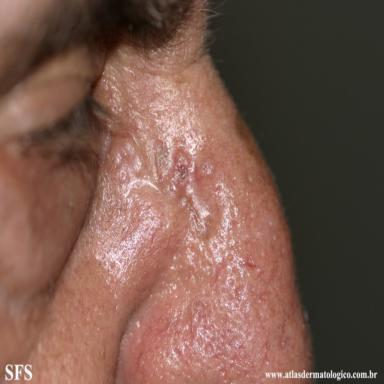basal-cell-carcinoma: (166, 144, 197, 191)
